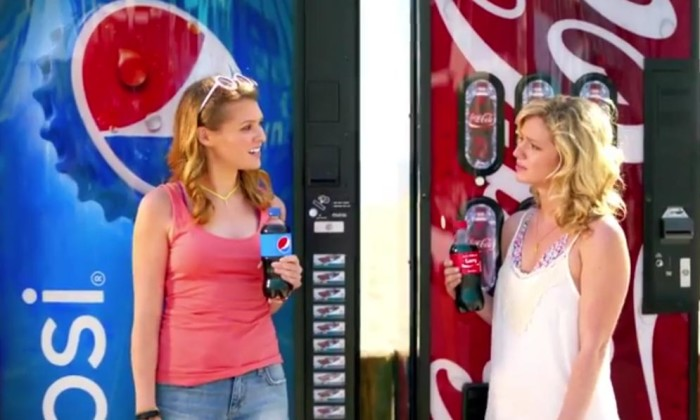pepsi: (75, 2, 254, 195), (277, 235, 288, 249)
